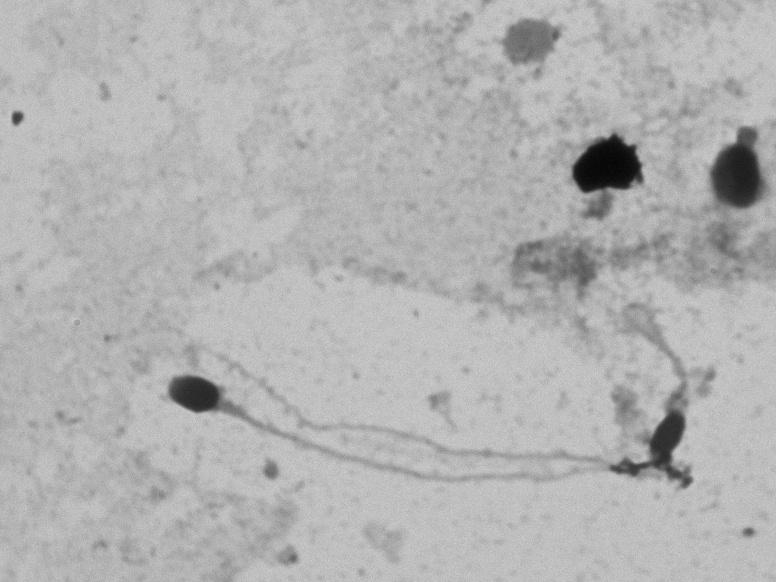Abnormal: (613, 291, 730, 467)
Normal: (148, 361, 658, 501)
